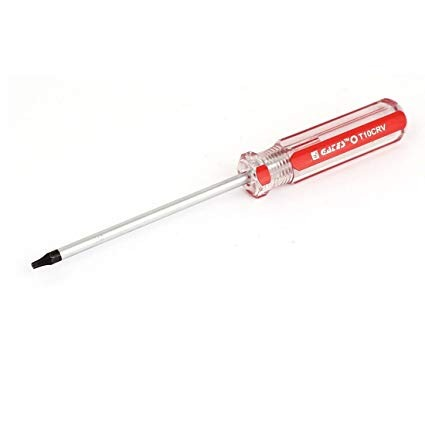screwdriver: (28, 92, 406, 277)
